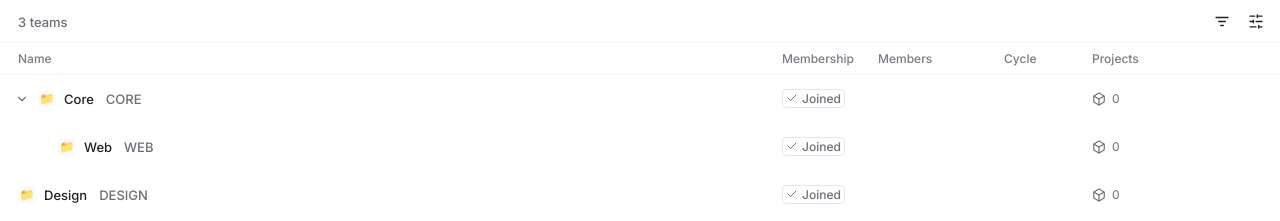
/teams com hierarquia de sub-times › recolher o pai esconde o sub-time
Click the button named "Collapse Core". click: [22, 99]
box: [14, 91, 30, 107]
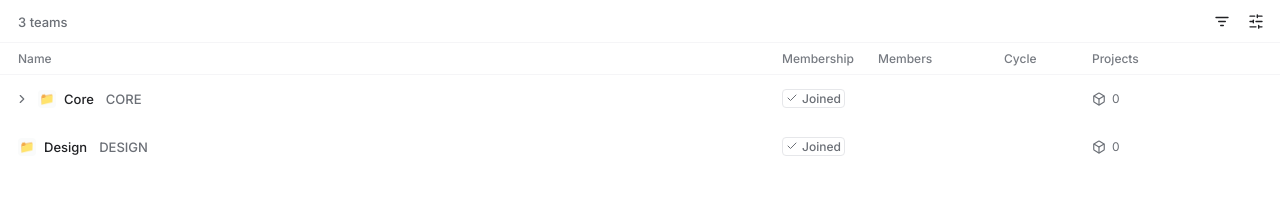
expect the link "Web" is gone: met
Click the button named "Expand Core". click: [22, 99]
box: [14, 91, 30, 107]
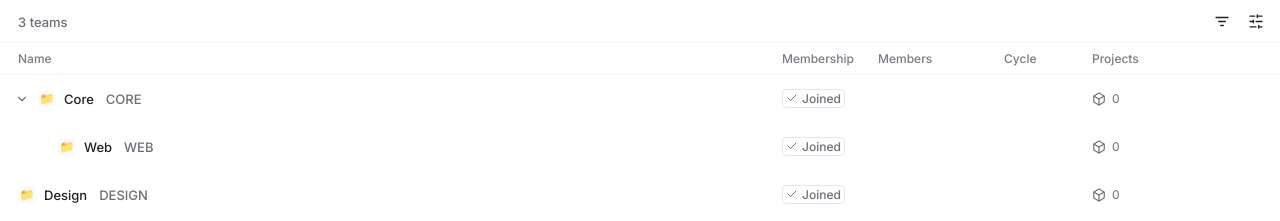
expect the link "📁 Web WEB Joined 0" is shown: met, box [58, 136, 1120, 156]
